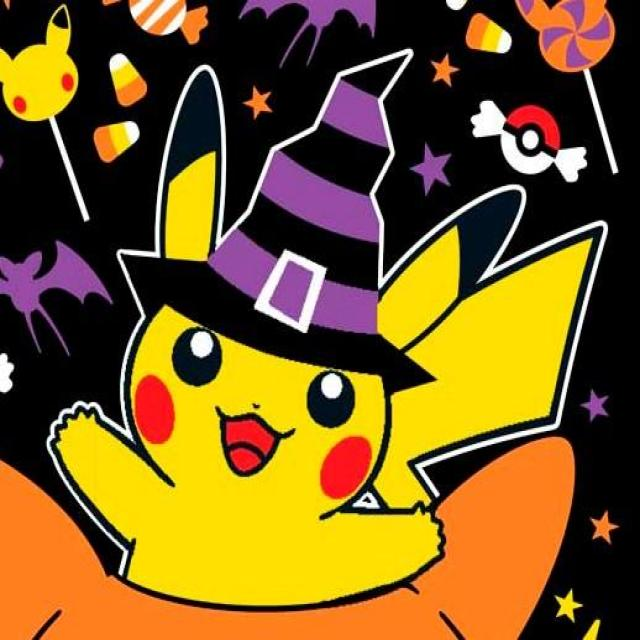pikachu: (48, 79, 601, 609)
